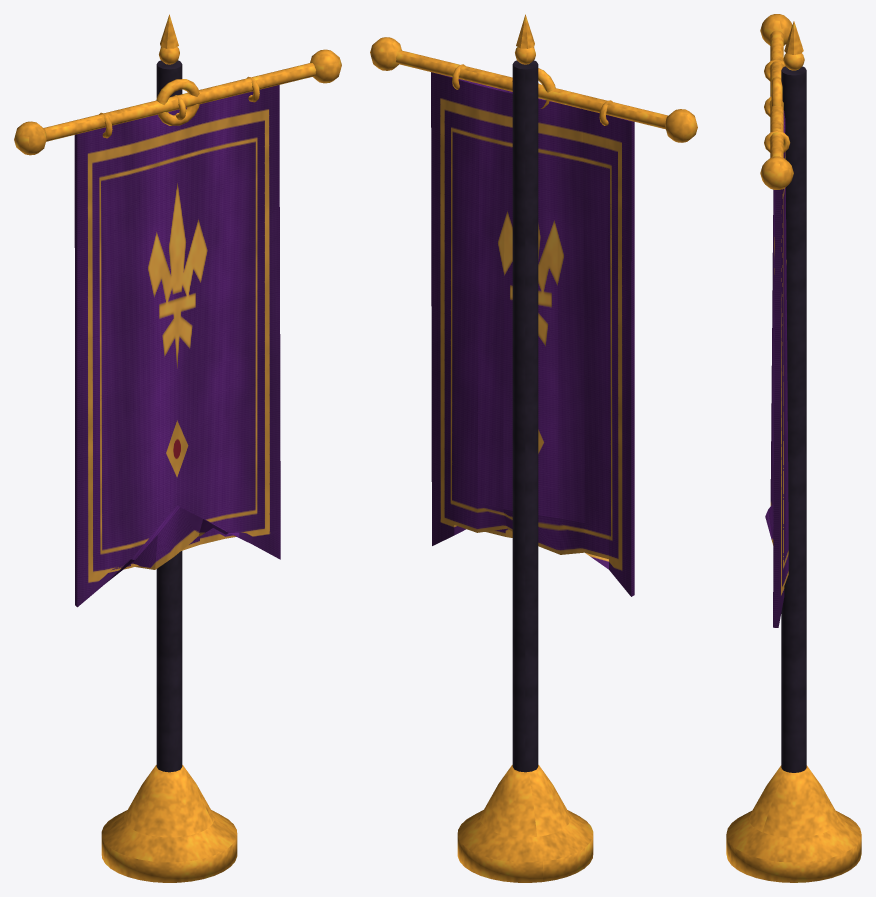
File: CHO_Banner.fbx
3 views of the same model, side by side, from view 1: azimuth 30°, elevation 25°; view 2: azimuth 150°, elevation 25°; view 3: azimuth 270°, elevation 25° (orthographic).
Parts seen in each view (by area): view 1: CHO_Banner; view 2: CHO_Banner; view 3: CHO_Banner.
Boxes of the visible parts, bbox=[...] form: CHO_Banner: bbox=[14, 14, 341, 882]; CHO_Banner: bbox=[370, 14, 697, 882]; CHO_Banner: bbox=[726, 14, 861, 882].
Bounding box in the file's own units: 1.31 × 3.27 × 0.48.
